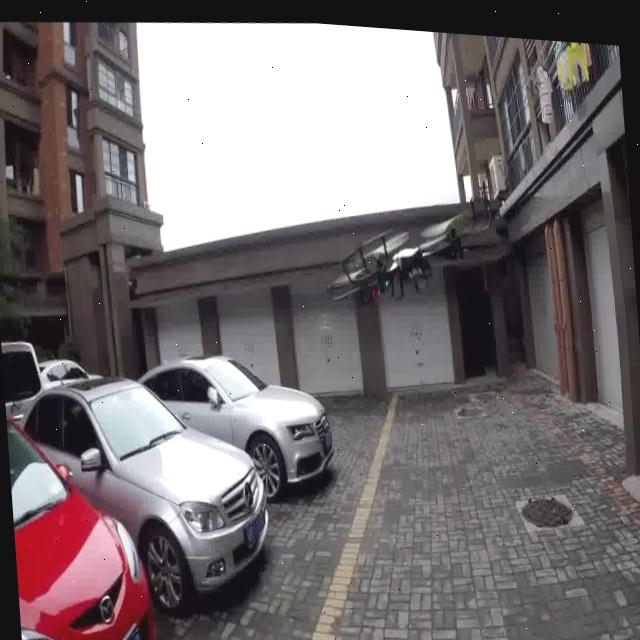drone: (318, 182, 482, 332)
